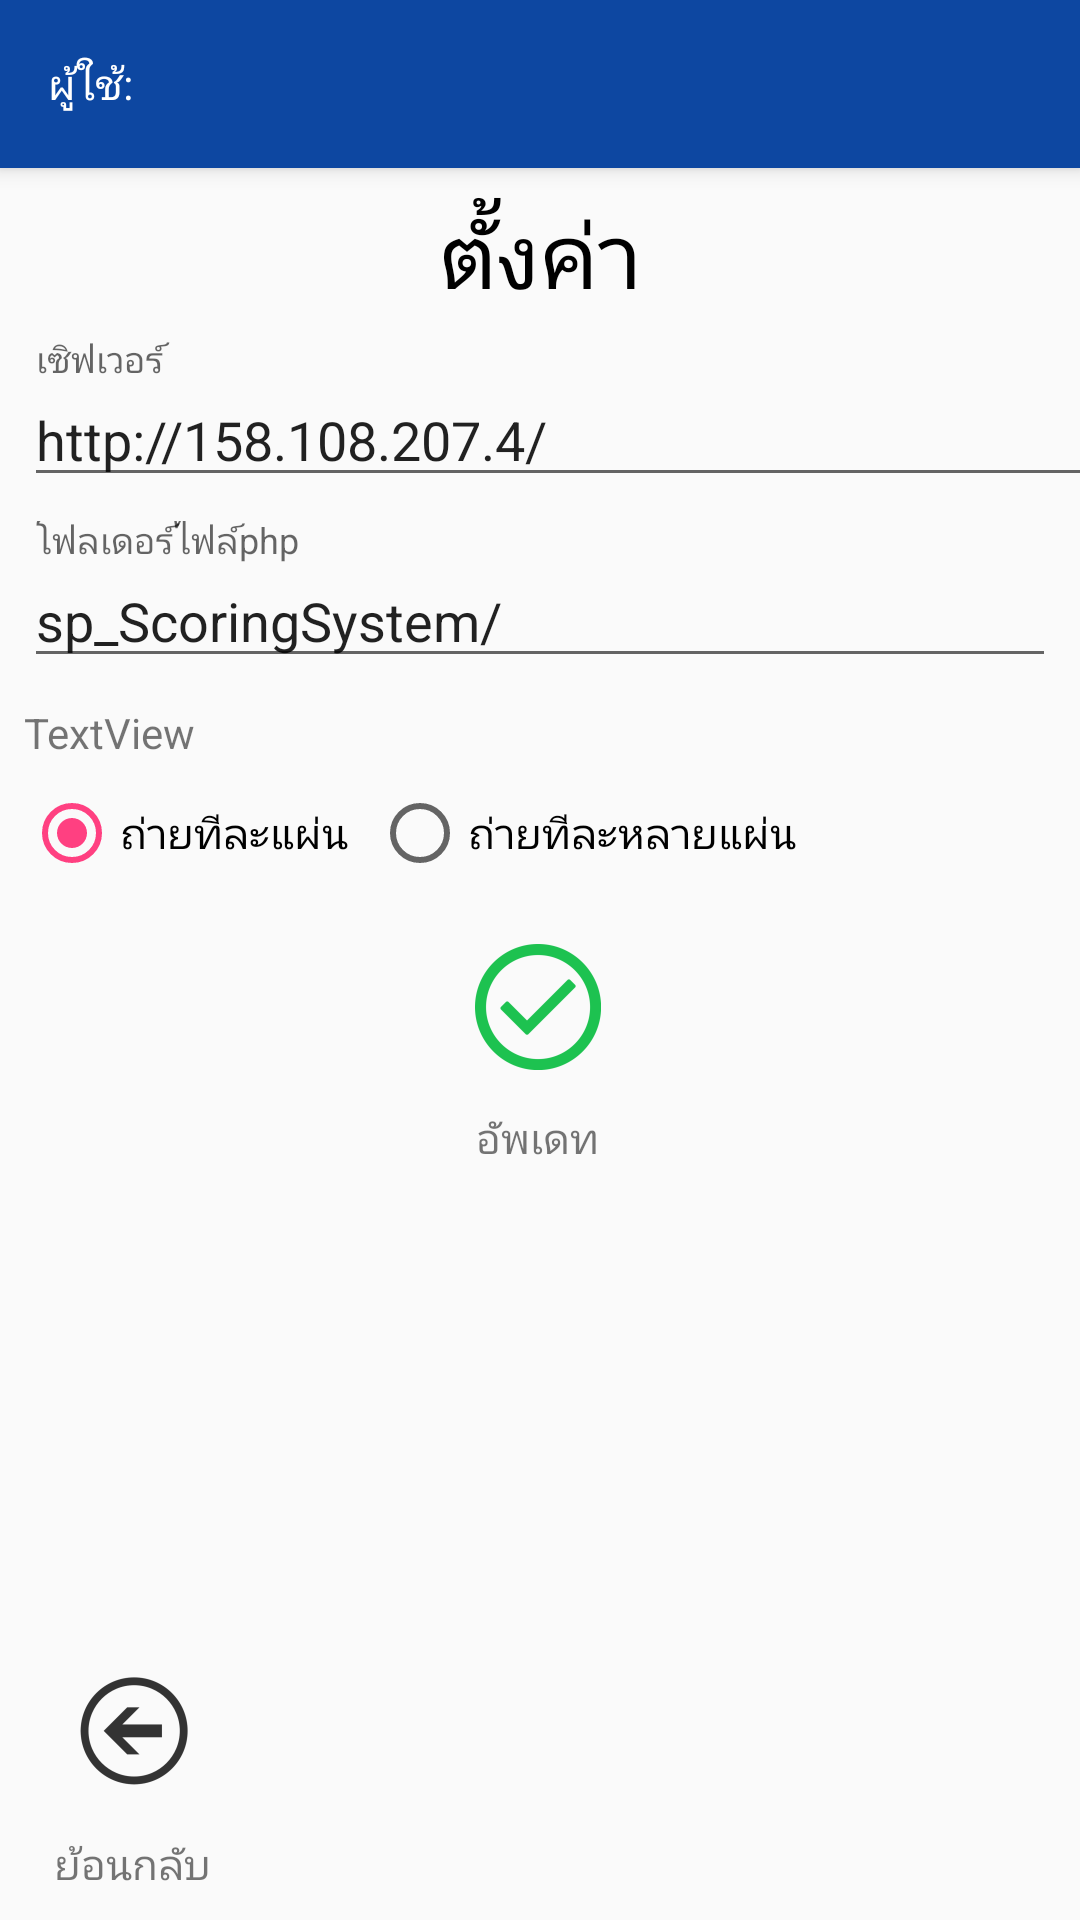

Point at icon controls on the screen. Image size 1080 x 1920, points as [x,y].
back: [134,1731]
confirm: [538,1007]
